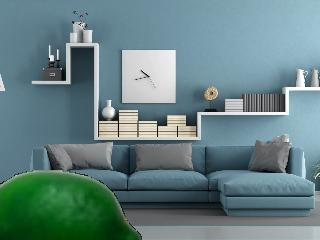lime: (0, 170, 142, 239)
